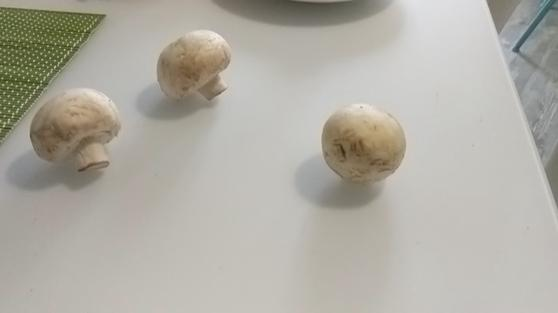champignon: (29, 88, 121, 171), (321, 104, 407, 183), (156, 29, 231, 101)
